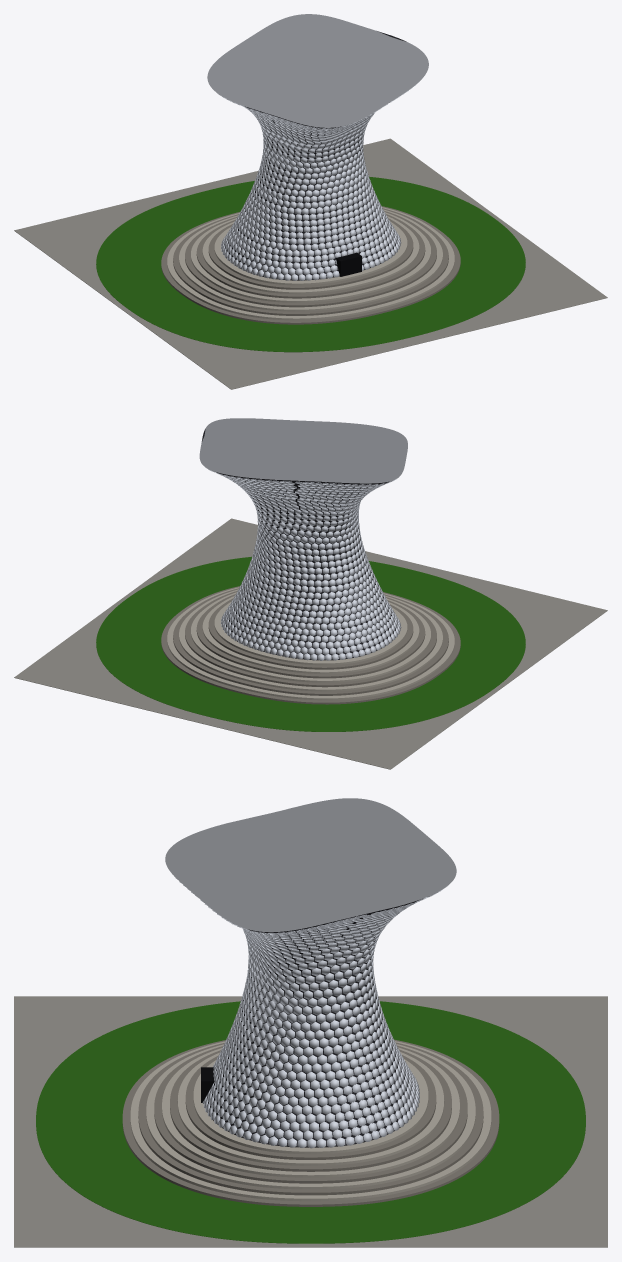
The model's file is MuseoS.obj.
The picture shows the model from 3 angles, top to bottom: view 1: azimuth 30°, elevation 25°; view 2: azimuth 150°, elevation 25°; view 3: azimuth 270°, elevation 25°; orthographic projection. The views are drawn at different scales.
Visible parts, largest first — view 1: Pasto, Soumaya_Casco, Plaza, Soumaya_Hexagonos, Escalon_09, Escalon_08, Escalon_07, Escalon_06, Escalon_05, Escalon_04, Escalon_03, Escalon_02 (+3 smaller); view 2: Pasto, Soumaya_Hexagonos, Plaza, Soumaya_Casco, Escalon_09, Escalon_08, Escalon_07, Escalon_06, Escalon_05, Escalon_04, Escalon_03, Escalon_02 (+2 smaller); view 3: Pasto, Plaza, Soumaya_Hexagonos, Soumaya_Casco, Escalon_09, Escalon_08, Escalon_07, Escalon_06, Escalon_05, Escalon_04, Escalon_03, Escalon_02 (+2 smaller).
Boxes of the visible parts, x1=… form: Pasto: x1=96, y1=176, x2=525, y2=352; Soumaya_Casco: x1=207, y1=14, x2=428, y2=280; Plaza: x1=14, y1=138, x2=607, y2=389; Soumaya_Hexagonos: x1=217, y1=78, x2=422, y2=280; Escalon_09: x1=161, y1=206, x2=460, y2=324; Escalon_08: x1=167, y1=207, x2=454, y2=320; Escalon_07: x1=173, y1=208, x2=448, y2=315; Escalon_06: x1=179, y1=209, x2=442, y2=311; Escalon_05: x1=185, y1=211, x2=436, y2=307; Escalon_04: x1=191, y1=212, x2=430, y2=302; Escalon_03: x1=196, y1=214, x2=425, y2=298; Escalon_02: x1=202, y1=216, x2=419, y2=294; Pasto: x1=96, y1=556, x2=525, y2=731; Soumaya_Hexagonos: x1=205, y1=467, x2=401, y2=660; Plaza: x1=14, y1=518, x2=607, y2=769; Soumaya_Casco: x1=199, y1=418, x2=407, y2=660; Escalon_09: x1=161, y1=586, x2=460, y2=704; Escalon_08: x1=167, y1=587, x2=454, y2=700; Escalon_07: x1=173, y1=588, x2=448, y2=695; Escalon_06: x1=179, y1=589, x2=442, y2=691; Escalon_05: x1=185, y1=591, x2=436, y2=687; Escalon_04: x1=191, y1=592, x2=430, y2=682; Escalon_03: x1=196, y1=594, x2=425, y2=678; Escalon_02: x1=202, y1=596, x2=419, y2=673; Pasto: x1=36, y1=1001, x2=585, y2=1243; Plaza: x1=14, y1=996, x2=607, y2=1247; Soumaya_Hexagonos: x1=179, y1=881, x2=447, y2=1148; Soumaya_Casco: x1=165, y1=798, x2=456, y2=1147; Escalon_09: x1=122, y1=1039, x2=499, y2=1206; Escalon_08: x1=130, y1=1041, x2=491, y2=1201; Escalon_07: x1=138, y1=1042, x2=483, y2=1195; Escalon_06: x1=146, y1=1044, x2=475, y2=1189; Escalon_05: x1=154, y1=1045, x2=467, y2=1183; Escalon_04: x1=162, y1=1047, x2=459, y2=1177; Escalon_03: x1=170, y1=1049, x2=451, y2=1171; Escalon_02: x1=177, y1=1052, x2=444, y2=1165.
Bounding box in the file's own units: 106 × 53.82 × 106.
